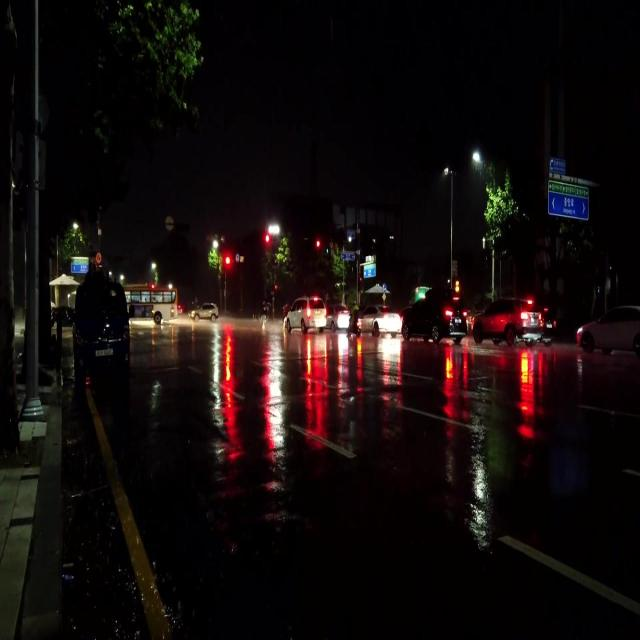Car: (71, 281, 129, 376), (473, 294, 540, 348), (400, 288, 465, 342), (283, 289, 325, 330)
